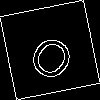O: (25, 25, 83, 85)
